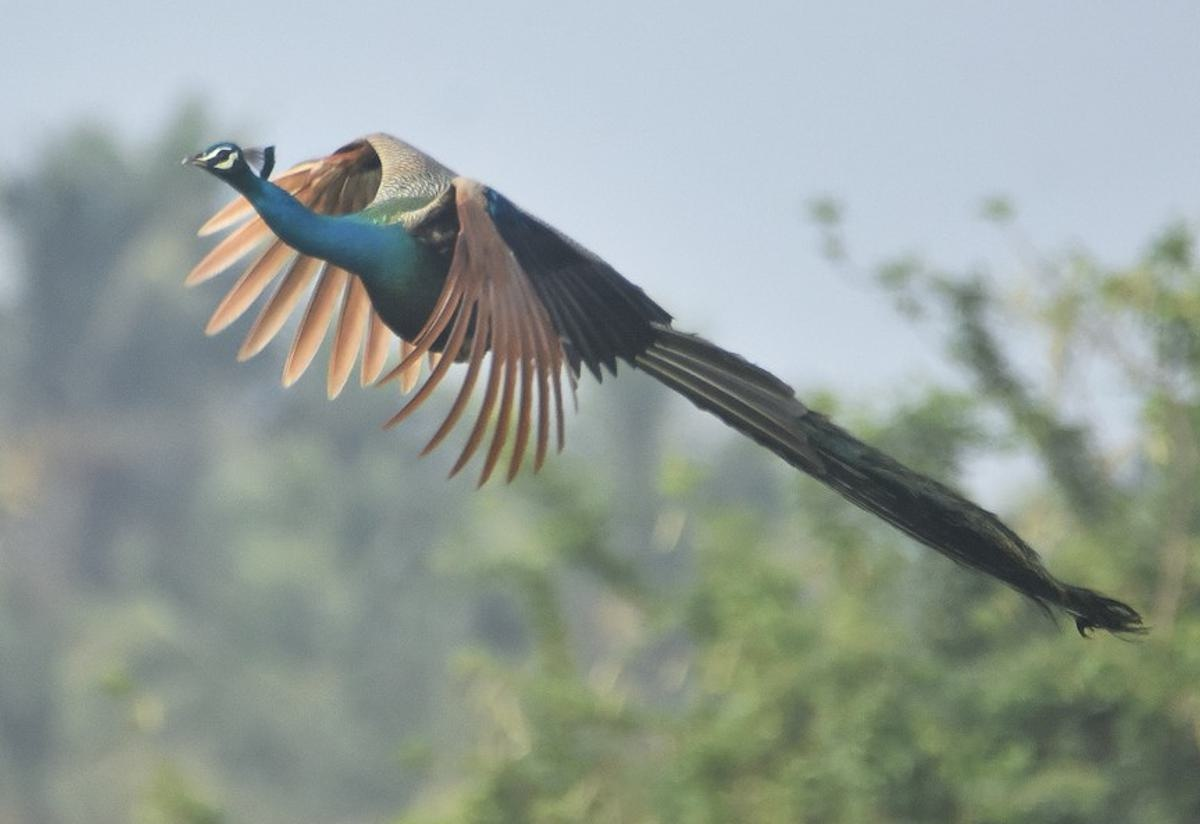peacock: (191, 110, 1007, 577)
